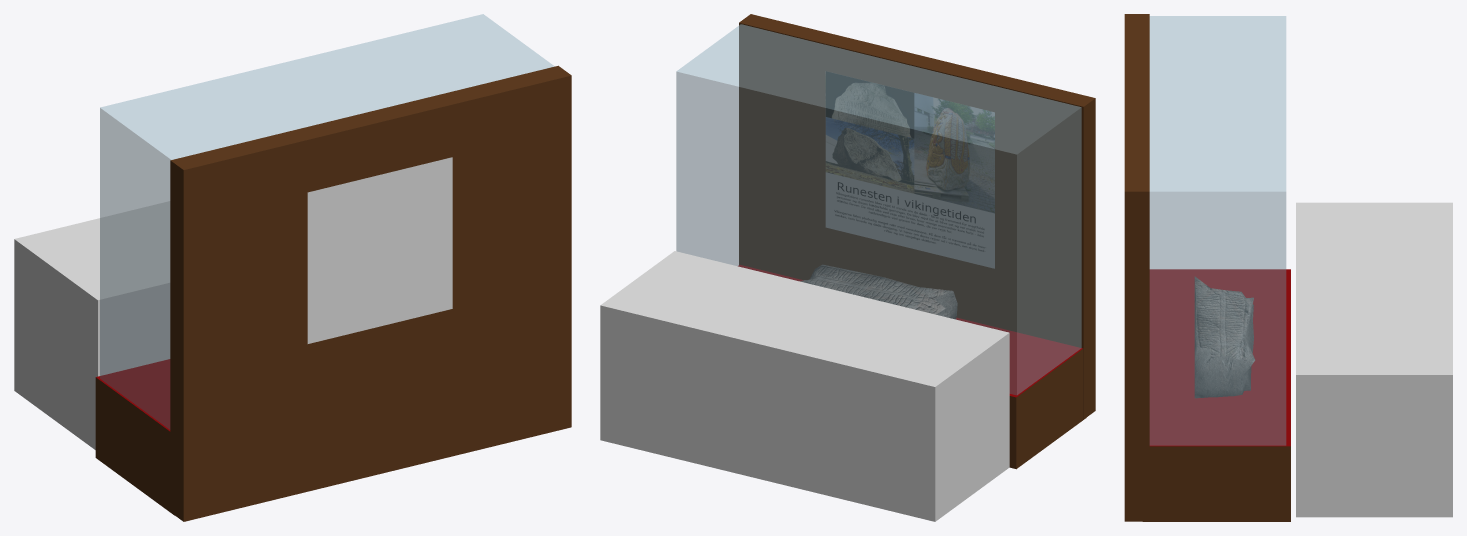
The model's file is montre_runesten.gltf.
The picture shows the model from 3 angles, left to right: view 1: azimuth 30°, elevation 25°; view 2: azimuth 150°, elevation 25°; view 3: azimuth 270°, elevation 25°; orthographic projection. The views are drawn at different scales.
Visible parts, largest first — view 1: Cube.001, glass.001, front.zone, snap, Cube.006; view 2: glass.001, front.zone, Cube.001, Plane, Cube.006, Cube; view 3: glass.001, front.zone, Cube.006, Cube.001, Cube.
Boxes of the visible parts, x1,y1,x2,y2 form: Cube.001: (170, 65, 571, 521); glass.001: (100, 14, 554, 429); front.zone: (14, 201, 170, 449); snap: (307, 157, 452, 343); Cube.006: (95, 359, 174, 515); glass.001: (676, 24, 1081, 395); front.zone: (600, 251, 1009, 521); Cube.001: (739, 14, 1095, 419); Plane: (825, 71, 994, 268); Cube.006: (738, 265, 1085, 469); Cube: (800, 264, 957, 319); glass.001: (1149, 16, 1286, 445); front.zone: (1296, 202, 1452, 517); Cube.006: (1143, 269, 1290, 521); Cube.001: (1124, 14, 1149, 521); Cube: (1194, 276, 1254, 398).
Bounding box in the file's own units: 5.35 × 4.65 × 4.19.
Materials: 5 (2 with a texture image).
